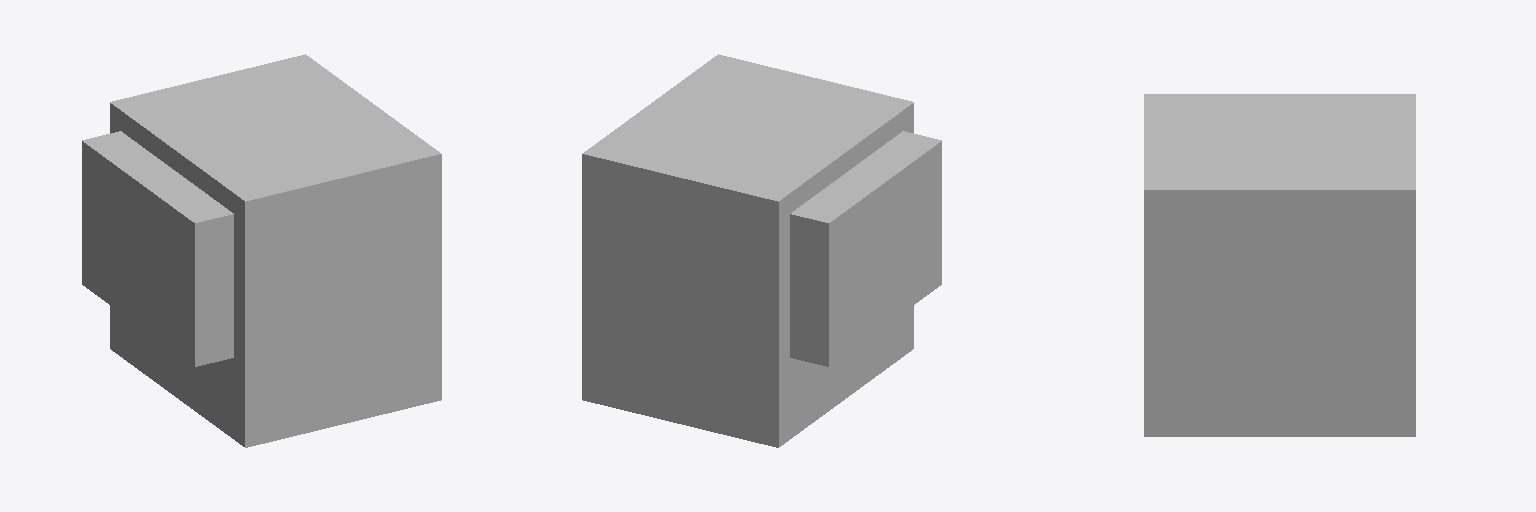
File: turtle_small.obj
3 renders of one model, left to right at view 1: azimuth 30°, elevation 25°; view 2: azimuth 150°, elevation 25°; view 3: azimuth 270°, elevation 25°, orthographic.
Parts seen in each view (by area): view 1: Cube_Cube.001; view 2: Cube_Cube.001; view 3: Cube_Cube.001.
Part boxes in pixels (x1,y1,x2,y2): Cube_Cube.001: (82, 54, 441, 447); Cube_Cube.001: (582, 54, 941, 447); Cube_Cube.001: (1144, 94, 1415, 436).
Bounding box in the file's own units: 1 × 1 × 1.